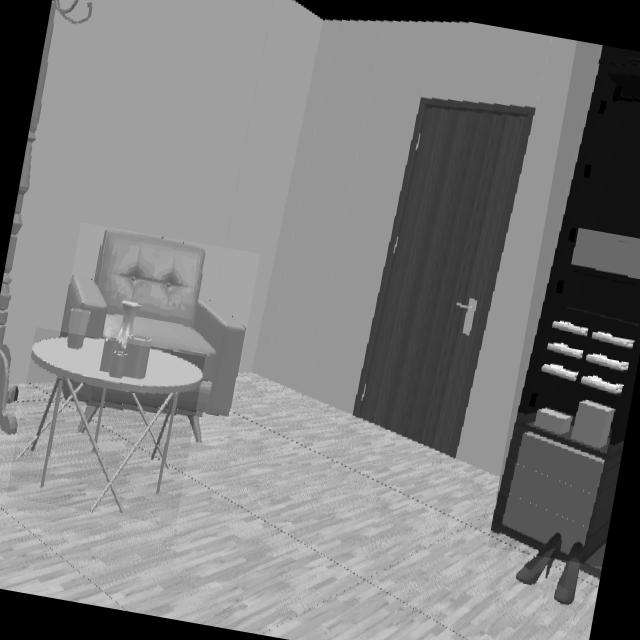sofa: (60, 228, 246, 444)
table: (15, 336, 202, 514)
wardrobe: (491, 45, 640, 566)
